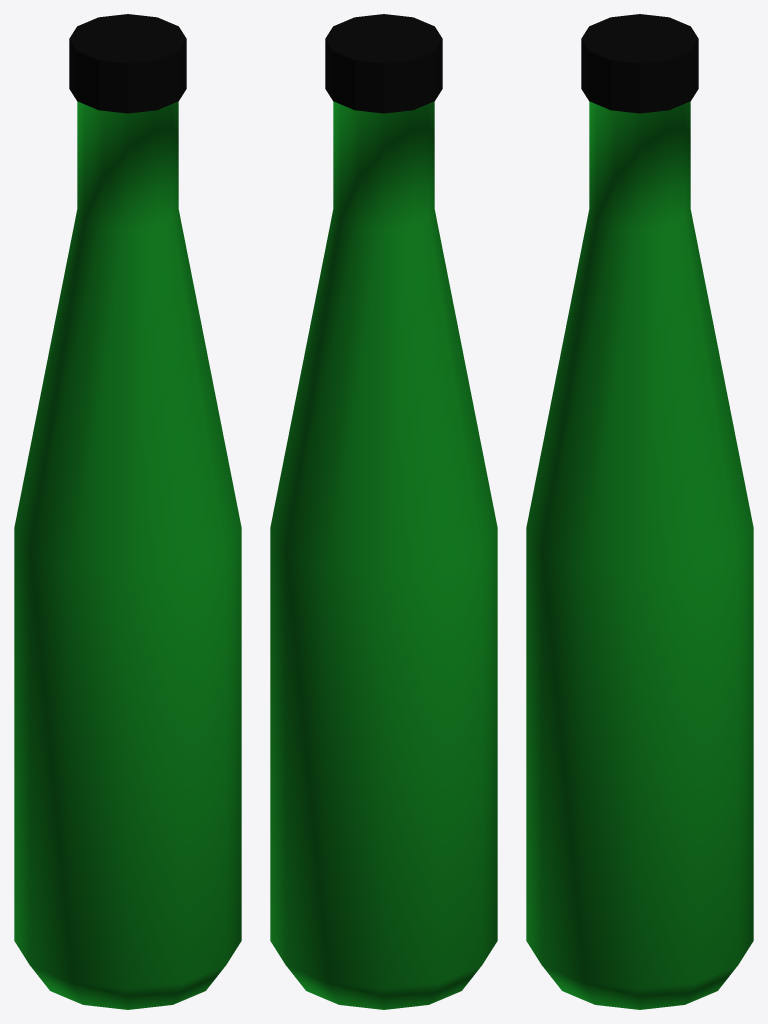
Rendered from Glass_Bottle_5.fbx.
3 renders of one model, left to right at view 1: azimuth 30°, elevation 25°; view 2: azimuth 150°, elevation 25°; view 3: azimuth 270°, elevation 25°, orthographic.
Parts seen in each view (by area): view 1: Cylinder.005; view 2: Cylinder.005; view 3: Cylinder.005.
Part boxes in pixels (left/top/right/bottom): Cylinder.005: left=14, top=14, right=241, bottom=1009; Cylinder.005: left=270, top=14, right=497, bottom=1009; Cylinder.005: left=526, top=14, right=753, bottom=1009.
Size of the model in its own units: 7.95 by 36.03 by 7.95.
